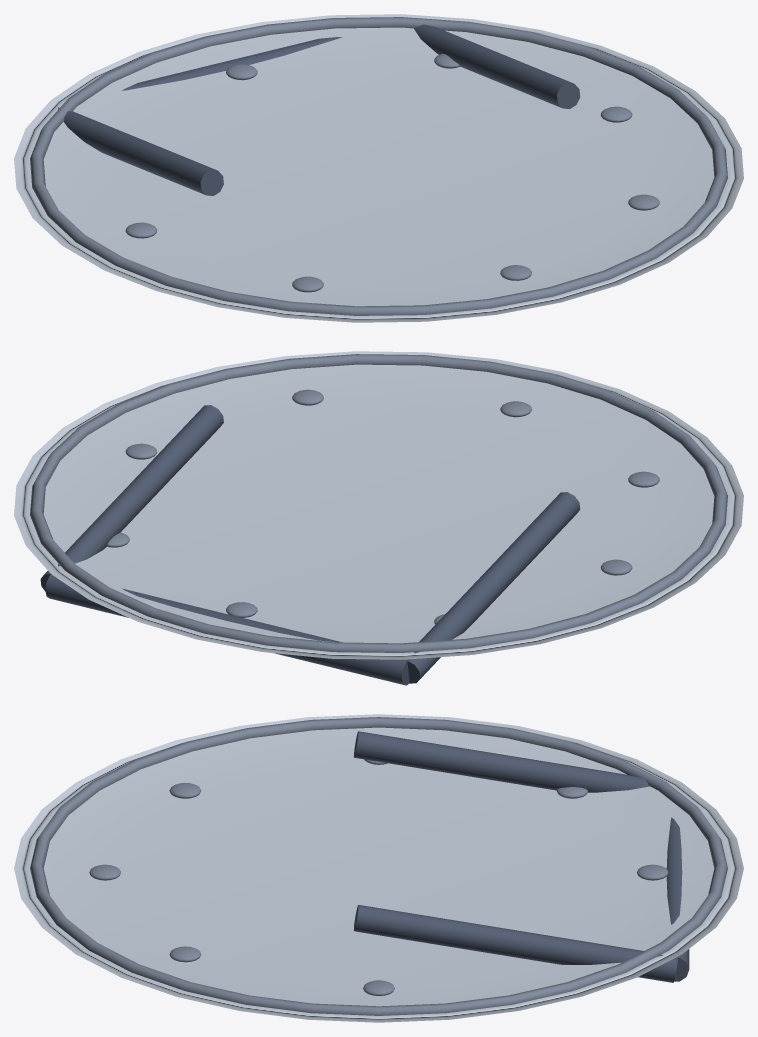
File: decorative-plate-lite.glb
3 renders of one model, top to bottom at view 1: azimuth 30°, elevation 25°; view 2: azimuth 150°, elevation 25°; view 3: azimuth 270°, elevation 25°, orthographic.
Parts seen in each view (by area): view 1: light, accent, dark, body; view 2: light, accent, dark, body; view 3: light, accent, dark, body.
Part boxes in pixels (box(x1,y1,x2,y2)): light: box(14, 14, 743, 322); accent: box(30, 17, 727, 315); dark: box(58, 24, 580, 195); body: box(125, 53, 659, 292); light: box(14, 351, 743, 659); accent: box(30, 354, 727, 652); dark: box(40, 405, 580, 685); body: box(107, 389, 659, 624); light: box(14, 714, 743, 1022); accent: box(30, 717, 727, 1015); dark: box(353, 731, 689, 982); body: box(89, 759, 668, 995).
Bounding box in the file's own units: 0.32 × 0.0459 × 0.32.
